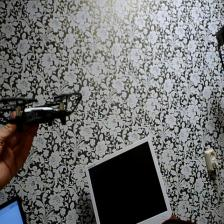drone: (0, 85, 84, 140)
